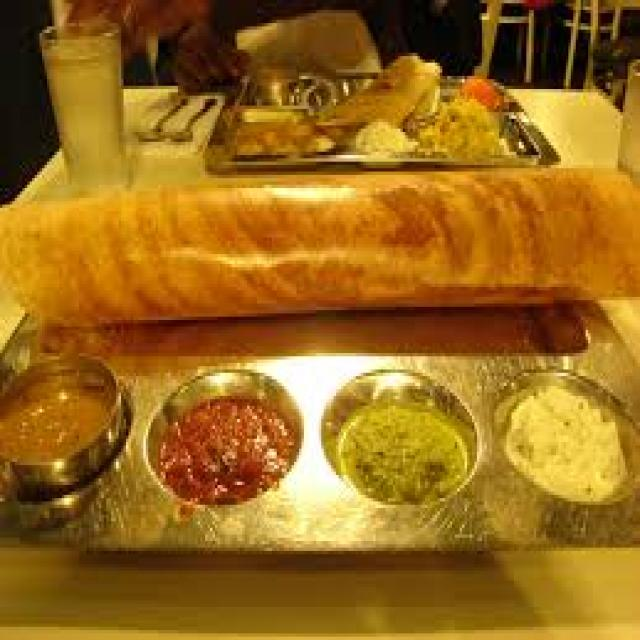Wet Waste: (0, 158, 635, 330), (497, 369, 622, 505)
